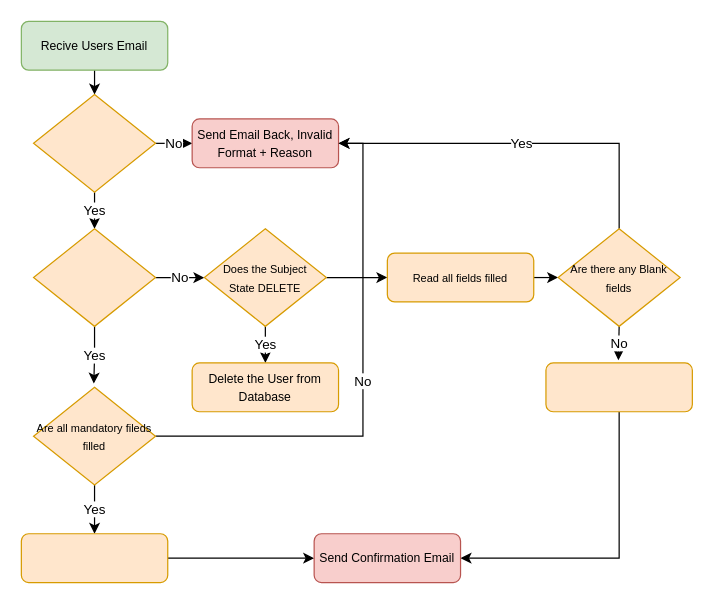
The diagram is 714 pixels wide and 604 high, and some of its shapes have lost their labels. Here are the shapes that lost their labels. From the top down, the box of each, then its label:
(32, 93, 156, 192): Is Email Subject Valid
(32, 228, 156, 326): Is the Email about Registration
(545, 362, 692, 412): Change User Details
(20, 533, 168, 583): Add user to the Database
